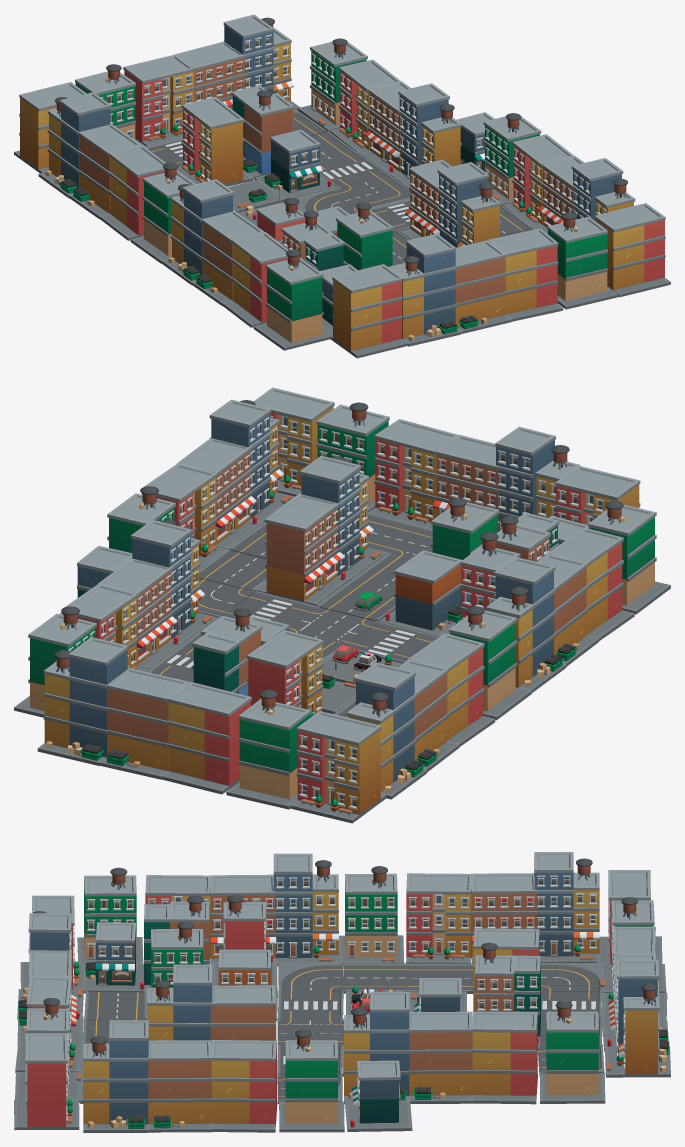
Rendered from city2.glb.
The picture shows the model from 3 angles, top to bottom: view 1: azimuth 30°, elevation 25°; view 2: azimuth 150°, elevation 25°; view 3: azimuth 270°, elevation 25°; orthographic projection. The views are drawn at different scales.
Parts seen in each view (by area): view 1: building_F.007, building_H.006, building_F.008, building_D.003, building_F, building_H.001, building_F.006, building_F.005, building_D.006, building_H, building_E.006, building_H.002 (+34 smaller); view 2: building_F.009, building_H.005, building_F.005, building_E, building_E.005, building_D.005, building_F.006, building_H.003, building_H.002, building_H.006, building_B, building_H (+37 smaller); view 3: building_H.004, building_H.003, building_H.002, building_F.004, building_F.001, building_F.002, building_E.004, building_E.001, building_H.005, building_D.004, building_D.001, building_D.002 (+36 smaller).
Boxes of the visible parts, x1=… form: building_F.007: x1=327, y1=264, x2=407, y2=358; building_H.006: x1=388, y1=233, x2=461, y2=346; building_F.008: x1=594, y1=203, x2=670, y2=297; building_D.003: x1=253, y1=249, x2=331, y2=350; building_F: x1=176, y1=97, x2=253, y2=186; building_H.001: x1=390, y1=83, x2=461, y2=188; building_F.006: x1=487, y1=228, x2=563, y2=321; building_F.005: x1=123, y1=54, x2=194, y2=146; building_D.006: x1=547, y1=212, x2=618, y2=309; building_H: x1=437, y1=162, x2=501, y2=247; building_E.006: x1=454, y1=240, x2=511, y2=333; building_H.002: x1=38, y1=92, x2=111, y2=198; building_F.009: x1=290, y1=711, x2=386, y2=823; building_H.005: x1=37, y1=637, x2=128, y2=765; building_F.005: x1=161, y1=682, x2=251, y2=794; building_E: x1=254, y1=493, x2=350, y2=605; building_E.005: x1=100, y1=668, x2=189, y2=779; building_D.005: x1=226, y1=689, x2=310, y2=809; building_F.006: x1=368, y1=419, x2=459, y2=528; building_H.003: x1=486, y1=557, x2=566, y2=692; building_H.002: x1=346, y1=662, x2=426, y2=799; building_H.006: x1=495, y1=426, x2=580, y2=531; building_B: x1=380, y1=550, x2=462, y2=636; building_H: x1=299, y1=455, x2=386, y2=579; building_H.004: x1=83, y1=1020, x2=148, y2=1132; building_H.003: x1=273, y1=853, x2=338, y2=966; building_H.002: x1=534, y1=852, x2=599, y2=962; building_F.004: x1=210, y1=1040, x2=277, y2=1132; building_F.001: x1=471, y1=1011, x2=537, y2=1104; building_F.002: x1=406, y1=873, x2=472, y2=963; building_E.004: x1=147, y1=1040, x2=211, y2=1132; building_E.001: x1=407, y1=1011, x2=472, y2=1103; building_H.005: x1=605, y1=959, x2=670, y2=1077; building_D.004: x1=279, y1=1029, x2=344, y2=1132; building_D.001: x1=539, y1=1001, x2=605, y2=1103; building_D.002: x1=338, y1=866, x2=404, y2=965.
Size of the model in its own units: 14.23 by 3.05 by 20.19.
69 materials, 69 textured.
